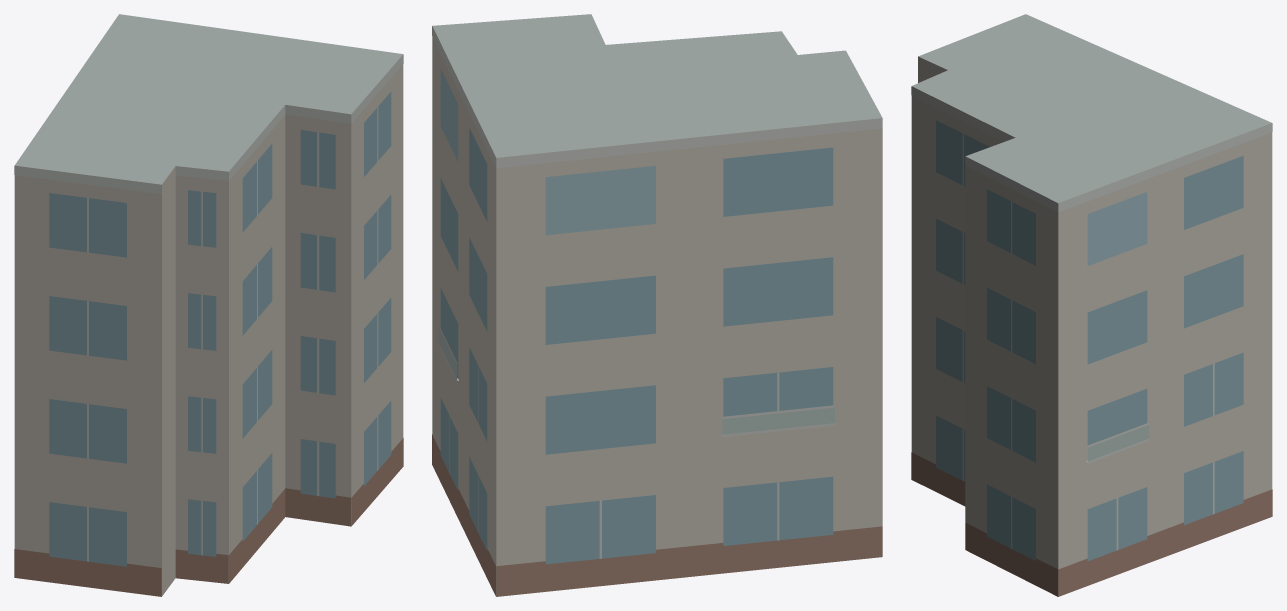
Rendered from survey-upis-32588057.glb.
3 renders of one model, left to right at view 1: azimuth 30°, elevation 25°; view 2: azimuth 150°, elevation 25°; view 3: azimuth 270°, elevation 25°, orthographic. The views are drawn at different scales.
Visible parts, largest first — view 1: survey-upis-32588057.tmp; view 2: survey-upis-32588057.tmp; view 3: survey-upis-32588057.tmp.
Part boxes in pixels (x1,y1,x2,y2): survey-upis-32588057.tmp: (14, 14, 403, 596); survey-upis-32588057.tmp: (432, 14, 882, 596); survey-upis-32588057.tmp: (911, 14, 1272, 596).
Bounding box in the file's own units: 10.83 × 10.5 × 8.73.
